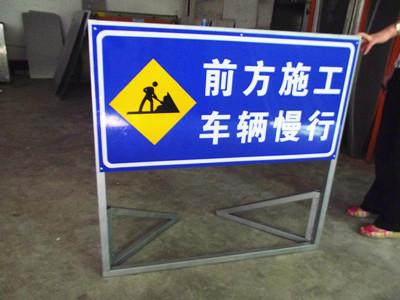sign: (89, 20, 359, 258)
